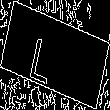L_N: (40, 26, 70, 84)
